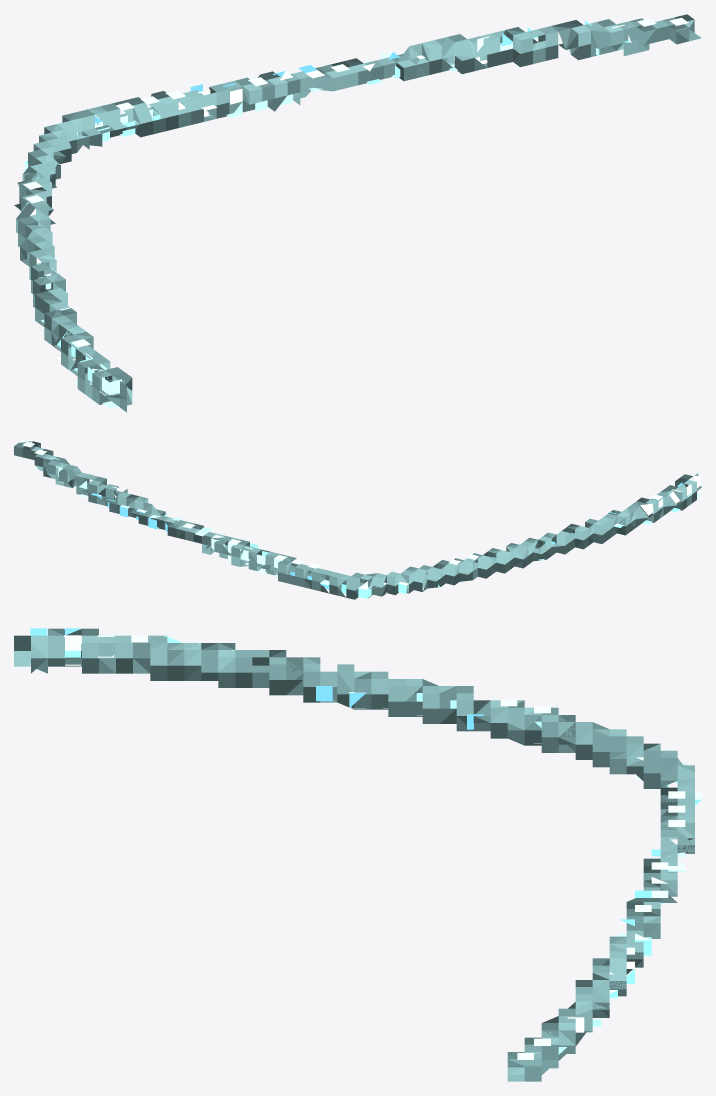
Rendered from compressed_BigCables_3.glb.
3 views of the same model, one above another, from view 1: azimuth 30°, elevation 25°; view 2: azimuth 150°, elevation 25°; view 3: azimuth 270°, elevation 25° (orthographic). The views are drawn at different scales.
Visible parts, largest first — view 1: PowerCableBig5, PowerCableBig5Lights; view 2: PowerCableBig5, PowerCableBig5Lights; view 3: PowerCableBig5, PowerCableBig5Lights.
Part boxes in pixels (left/top/right/bottom): PowerCableBig5: left=14, top=14, right=701, bottom=412; PowerCableBig5Lights: left=23, top=17, right=688, bottom=408; PowerCableBig5: left=14, top=441, right=701, bottom=599; PowerCableBig5Lights: left=22, top=442, right=700, bottom=598; PowerCableBig5: left=14, top=628, right=694, bottom=1081; PowerCableBig5Lights: left=30, top=628, right=701, bottom=1059.
Size of the model in its own units: 8.45 by 0.413 by 5.42.
